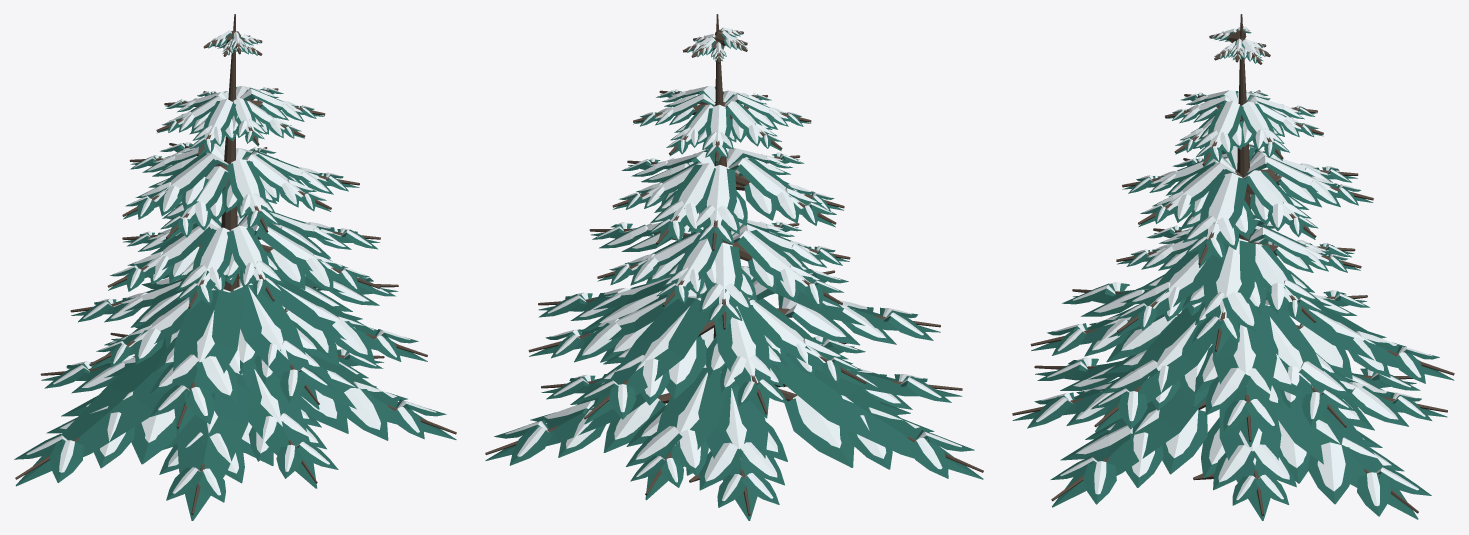
Rendered from TREE_05_PineWide.glb.
3 renders of one model, left to right at view 1: azimuth 30°, elevation 25°; view 2: azimuth 150°, elevation 25°; view 3: azimuth 270°, elevation 25°, orthographic. The views are drawn at different scales.
Visible parts, largest first — view 1: TREE_05_PineWide; view 2: TREE_05_PineWide; view 3: TREE_05_PineWide.
Boxes of the visible parts, x1,y1,x2,y2 form: TREE_05_PineWide: [14, 14, 456, 520]; TREE_05_PineWide: [485, 14, 983, 520]; TREE_05_PineWide: [1012, 14, 1454, 520].
Size of the model in its own units: 7.02 by 7.13 by 6.18.
